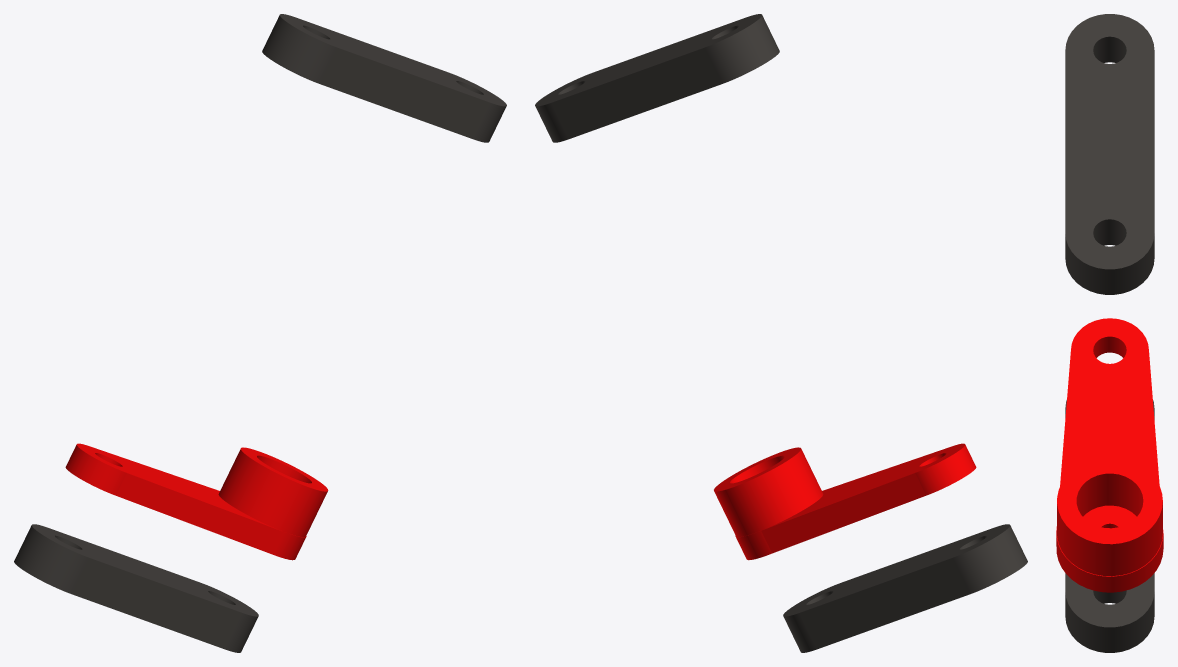
File: servo_arm.glb
3 renders of one model, left to right at view 1: azimuth 30°, elevation 25°; view 2: azimuth 150°, elevation 25°; view 3: azimuth 270°, elevation 25°, orthographic. The views are drawn at different scales.
Visible parts, largest first — view 1: servo_arm_v5_sim; view 2: servo_arm_v5_sim; view 3: servo_arm_v5_sim.
Part boxes in pixels (bbox=[...]): servo_arm_v5_sim: bbox=[14, 14, 506, 652]; servo_arm_v5_sim: bbox=[535, 14, 1027, 652]; servo_arm_v5_sim: bbox=[1056, 14, 1163, 652].
Bounding box in the file's own units: 0.0542 × 0.0659 × 0.0096.
